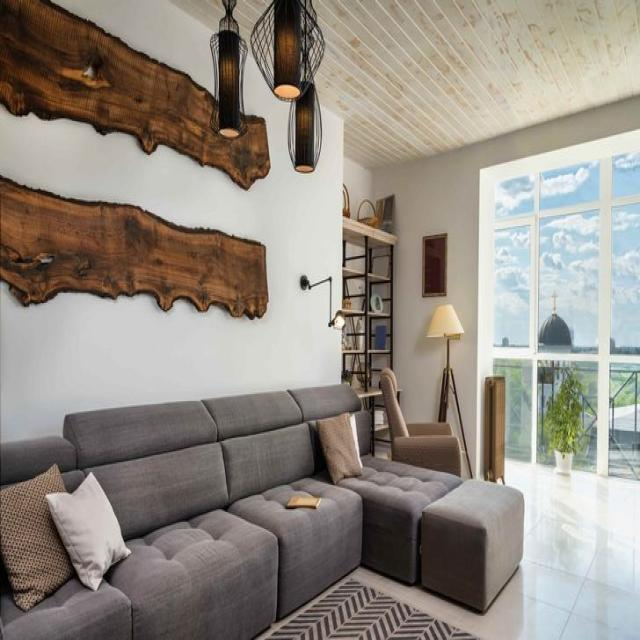modern sofa: (8, 383, 528, 640)
